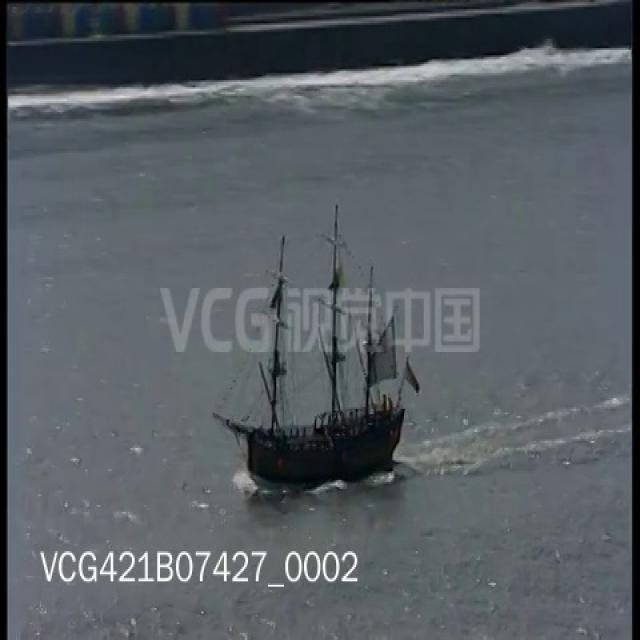sailboat: (208, 210, 414, 487)
